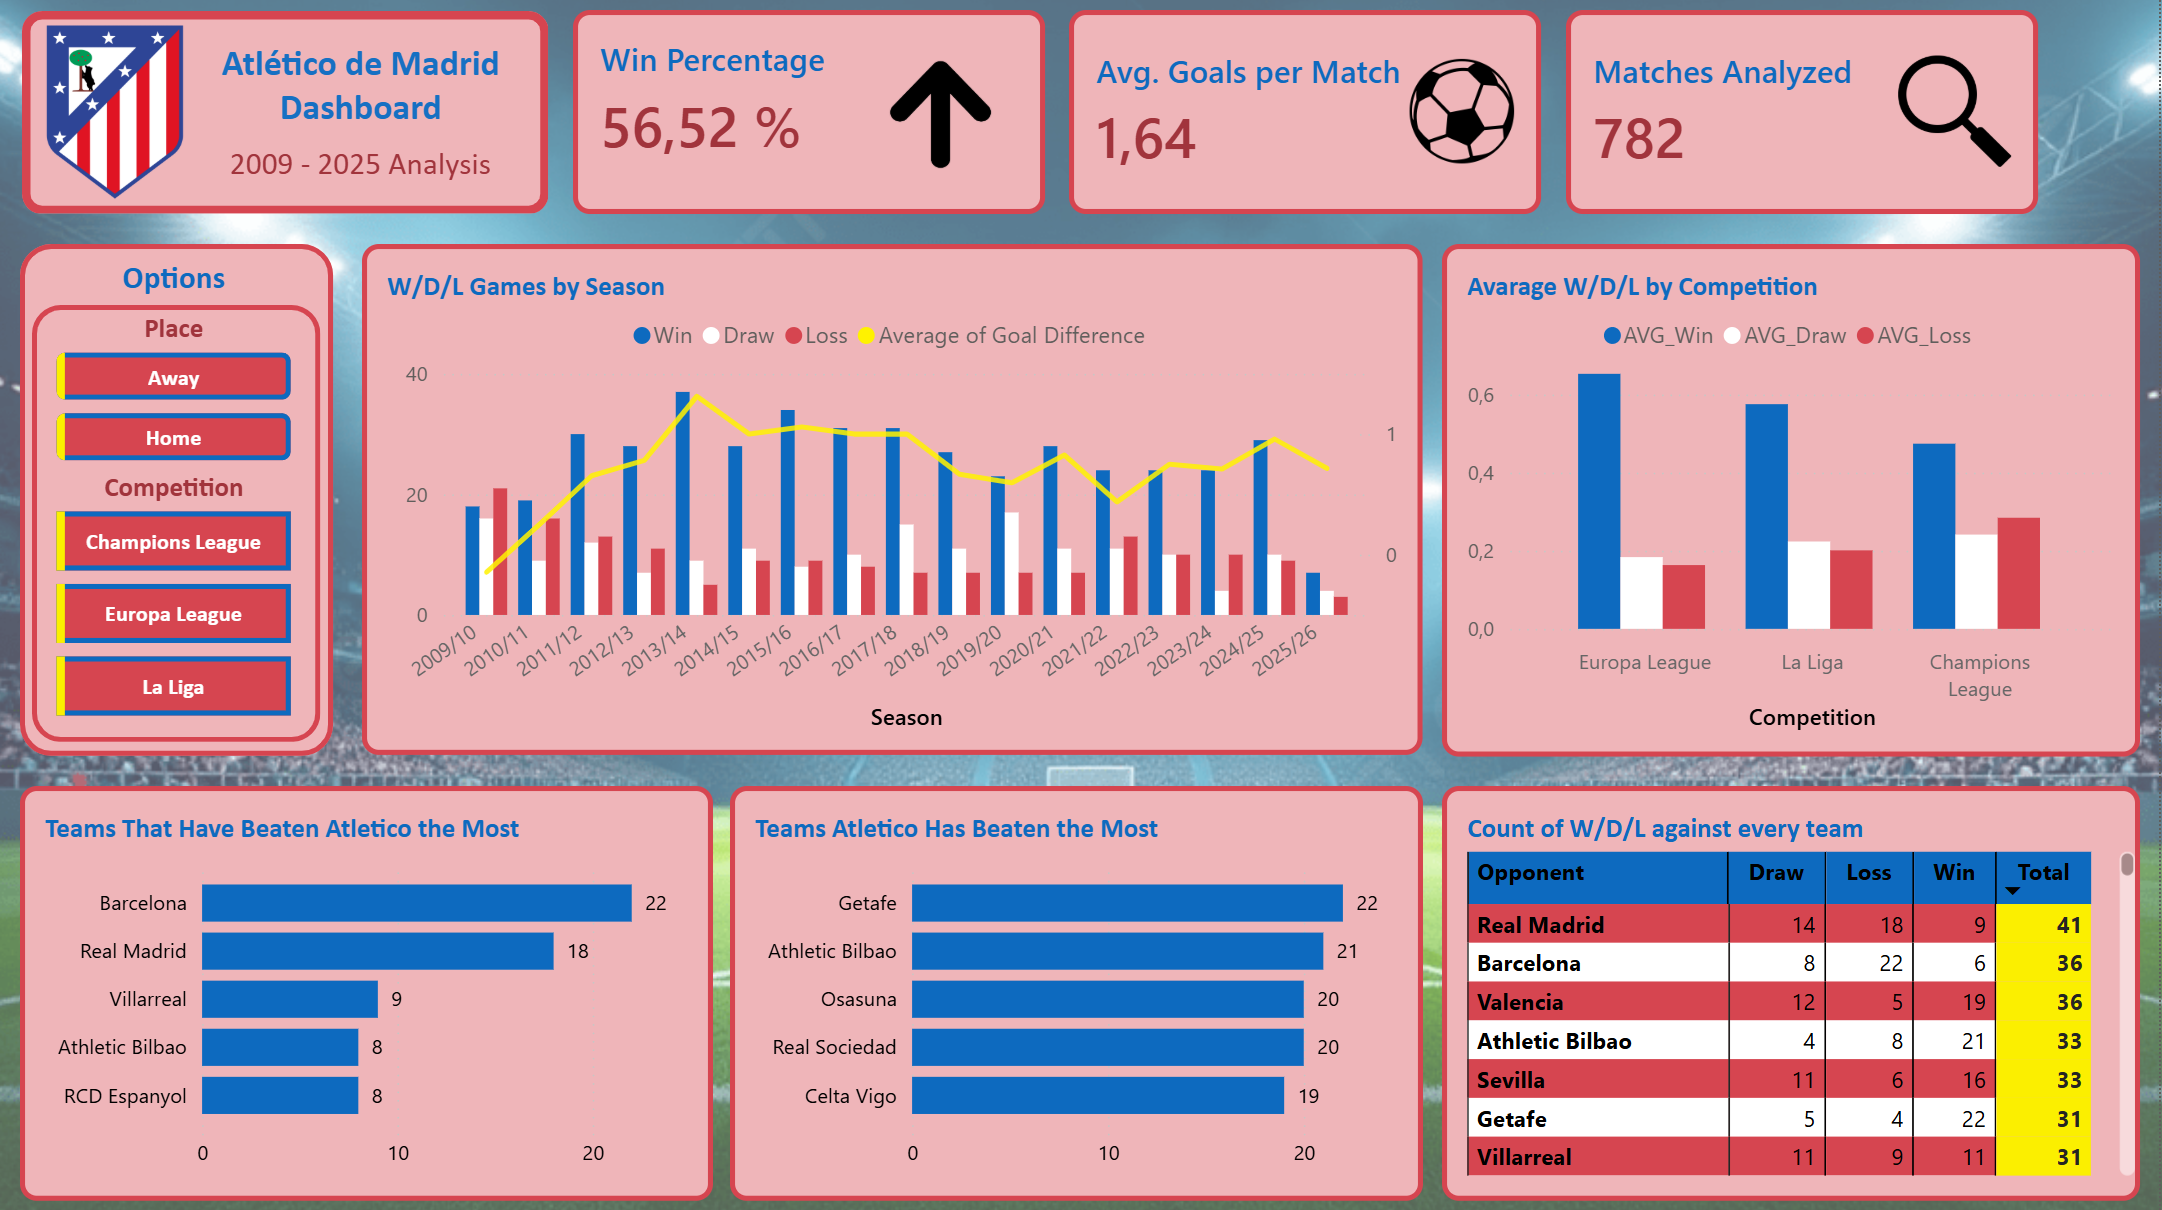

What the dashboard file says about the page in this screenshot:
{"tool":"powerbi","page":{"name":"Page 1","canvas":[1280,720],"ordinal":0},"visuals":[{"type":"shape","box":[12.1,145.7,185.7,303.6],"z":0},{"type":"shape","box":[18.9,182.4,171.1,259.2],"z":1000},{"type":"shape","box":[13.3,7.6,312.4,120.5],"z":2000},{"type":"cardVisual","fields":{"Data":["Avg(Results.Atletico_Goals)"]},"box":[634.3,7.4,280,120.7],"z":3000},{"type":"cardVisual","fields":{"Data":["CountNonNull(Results.Atletico_Goals)"]},"box":[928.6,7.4,280,120.7],"z":4000},{"type":"advancedSlicerVisual","fields":{"Values":["Results.Competition"]},"box":[28.6,280.4,149.3,150.7],"z":5000},{"type":"cardVisual","fields":{"Data":["Avg(Results.Win_Value)"]},"box":[340,7.4,280,120.7],"z":6000},{"type":"clusteredColumnChart","title":"Avarage W/D/L by Competition","fields":{"Category":["Results.Competition"],"Y":["Results.Avarage_Win","Results.Avarage_Draw","Results.Avarage_Loss"]},"box":[855,145.7,413.6,303.6],"z":7000},{"type":"advancedSlicerVisual","fields":{"Values":["Results.Place"]},"box":[28.3,186.1,149.3,94.3],"z":8000},{"type":"clusteredBarChart","title":"Teams That Have Beaten Atletico the Most","fields":{"Category":["Results.Opponent"],"Y":["Results.Total_Loss_Oponent"]},"box":[12.1,467.1,410.7,245.7],"z":9000},{"type":"clusteredBarChart","title":"Teams Atletico Has Beaten the Most","fields":{"Category":["Results.Opponent"],"Y":["Results.Total_Win_Oponent"]},"box":[432.9,467.1,411.4,245.7],"z":10000},{"type":"pivotTable","title":"Count of W/D/L against every team","fields":{"Rows":["Results.Opponent"],"Columns":["Results.Match_Status"],"Values":["CountNonNull(Results.Goal_Difference)"]},"box":[855,467.1,413.6,245.7],"z":11000},{"type":"lineClusteredColumnComboChart","title":"W/D/L Games by Season","fields":{"Category":["Results.Season"],"Y":["Results.Win_Count","Results.Draw_Count","Results.Loss_Count"],"Y2":["Avg(Results.Goal_Difference)"]},"box":[214.7,146,629.3,303.3],"z":12000},{"type":"textbox","box":[110,81.4,208.1,33.3],"z":13000},{"type":"textbox","box":[109.5,20.5,208.6,64.3],"z":14000},{"type":"image","box":[21.4,14.8,93.1,105.9],"z":15000},{"type":"textbox","box":[28.6,148.7,149.3,33.6],"z":16000}]}

Visuals, with their boxes in screenshot pixels (x1, y1, x2, y2), scaled from the page's 1280x720 canvas onto the 2162x1210 screenshot:
shape: x1=20 y1=245 x2=334 y2=755
shape: x1=32 y1=307 x2=321 y2=742
shape: x1=22 y1=13 x2=550 y2=215
cardVisual - Avg(Results.Atletico_Goals): x1=1071 y1=12 x2=1544 y2=215
cardVisual - CountNonNull(Results.Atletico_Goals): x1=1568 y1=12 x2=2041 y2=215
advancedSlicerVisual - Results.Competition: x1=48 y1=471 x2=300 y2=724
cardVisual - Avg(Results.Win_Value): x1=574 y1=12 x2=1047 y2=215
"Avarage W/D/L by Competition" clusteredColumnChart: x1=1444 y1=245 x2=2143 y2=755
advancedSlicerVisual - Results.Place: x1=48 y1=313 x2=300 y2=471
"Teams That Have Beaten Atletico the Most" clusteredBarChart: x1=20 y1=785 x2=714 y2=1198
"Teams Atletico Has Beaten the Most" clusteredBarChart: x1=731 y1=785 x2=1426 y2=1198
"Count of W/D/L against every team" pivotTable: x1=1444 y1=785 x2=2143 y2=1198
"W/D/L Games by Season" lineClusteredColumnComboChart: x1=363 y1=245 x2=1426 y2=755
textbox: x1=186 y1=137 x2=537 y2=193
textbox: x1=185 y1=34 x2=537 y2=143
image: x1=36 y1=25 x2=193 y2=203
textbox: x1=48 y1=250 x2=300 y2=306
